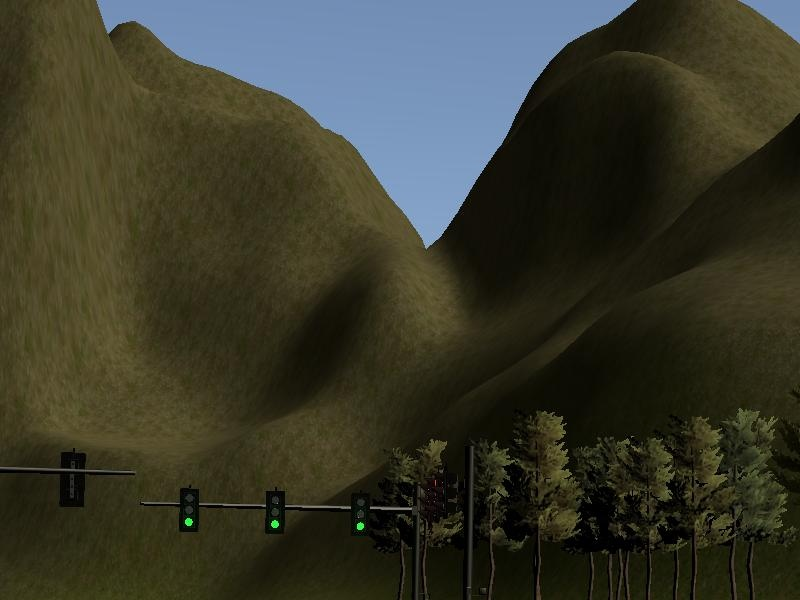traffic_light_green: (137, 485, 395, 537)
